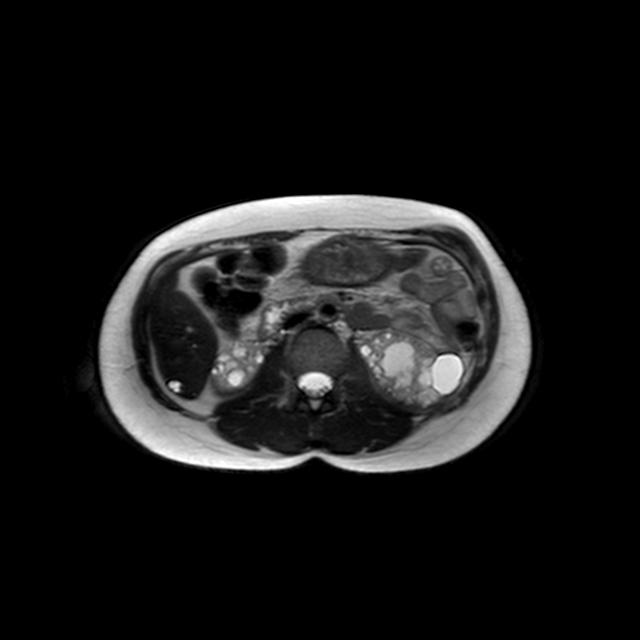sag: (210, 339, 273, 396)
sol: (354, 328, 466, 409)
